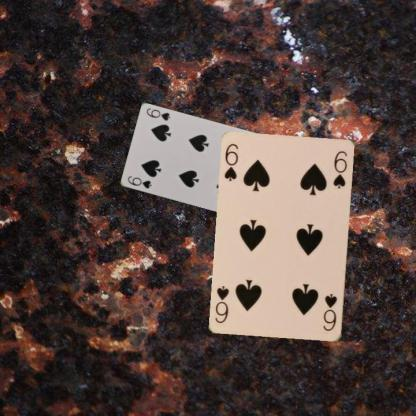6s: (320, 291, 338, 333), (222, 141, 240, 183), (125, 173, 152, 190)
